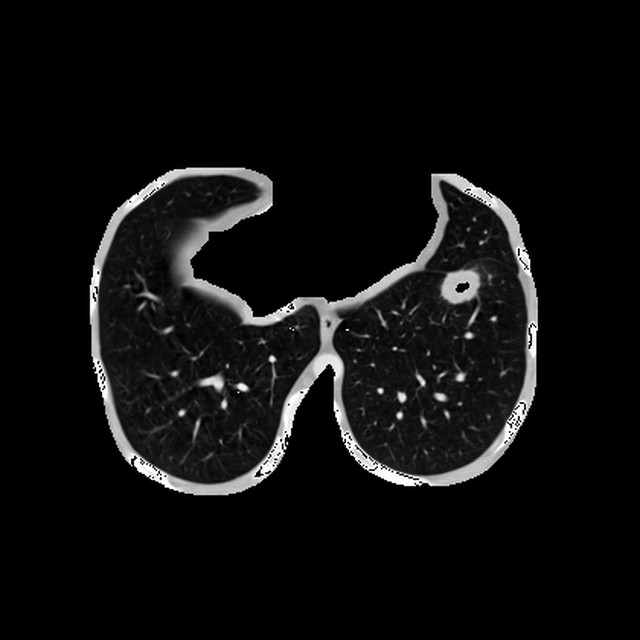PN: (440, 267, 477, 303)
